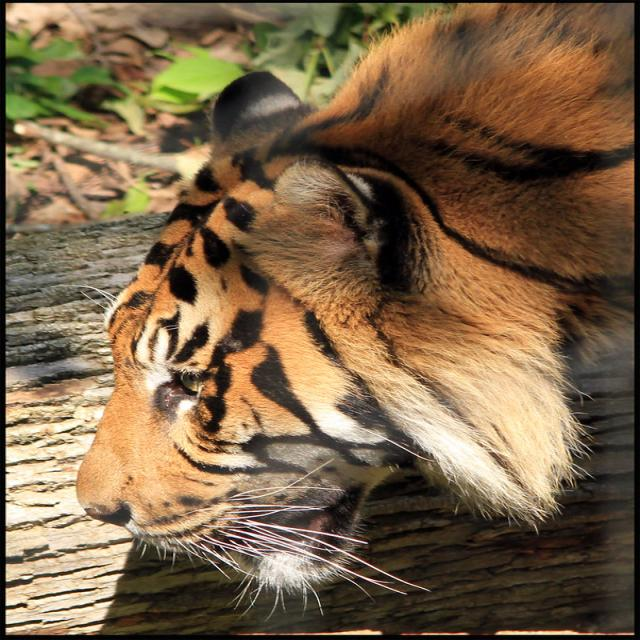Tiger: (72, 2, 634, 596)
